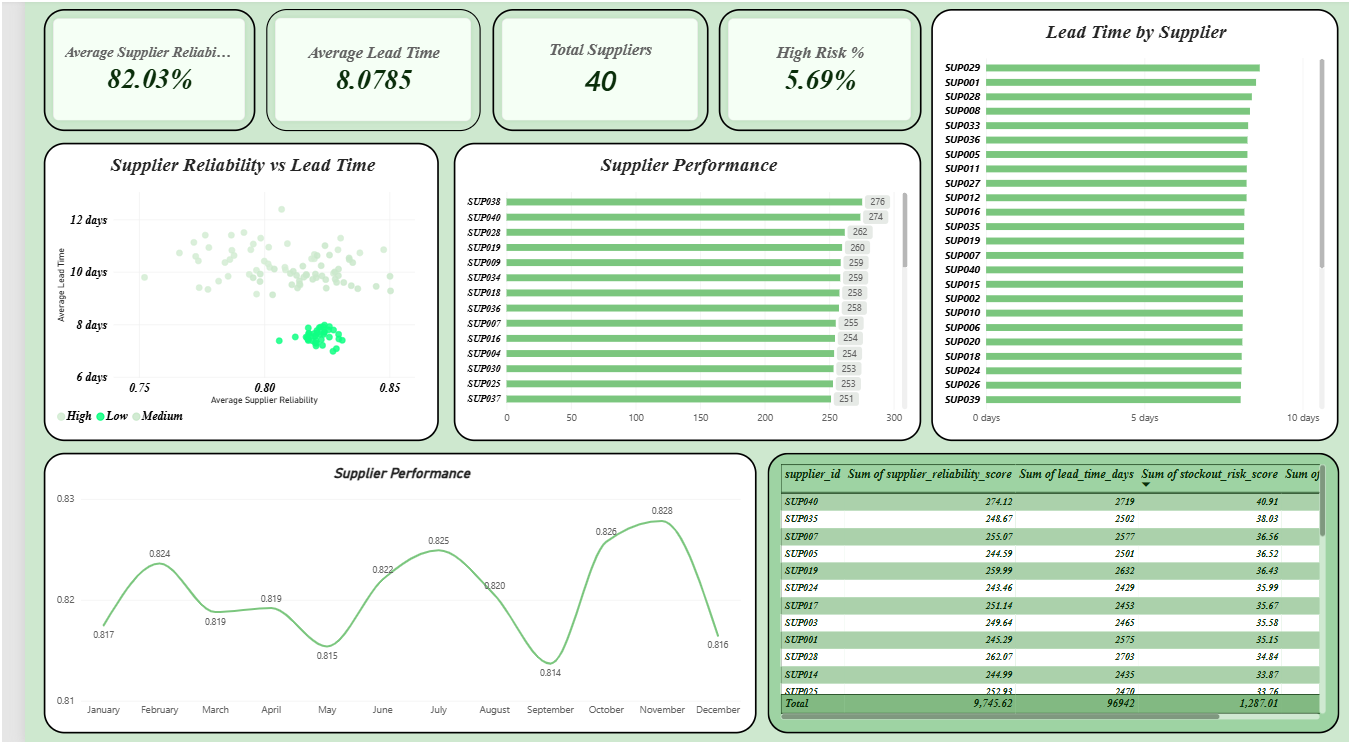

Layout of this report page (visuals, bound fields, positions):
{"tool":"powerbi","page":{"name":"🚚 Suppliers","canvas":[1920,1080],"ordinal":3},"visuals":[{"type":"cardVisual","fields":{"Data":["inventory_demand_stockout_risk_dataset.Average Supplier Reliability"]},"box":[27.7,14.9,306.4,176.6],"z":0},{"type":"cardVisual","fields":{"Data":["inventory_demand_stockout_risk_dataset.Average Lead Time"]},"box":[348.9,14.9,310.6,176.6],"z":1000},{"type":"cardVisual","fields":{"Data":["inventory_demand_stockout_risk_dataset.Total Suppliers"]},"box":[676.6,14.9,312.8,176.6],"z":2000},{"type":"cardVisual","fields":{"Data":["inventory_demand_stockout_risk_dataset.High Risk %"]},"box":[1004.3,14.9,293.6,176.6],"z":3000},{"type":"scatterChart","title":"Supplier Reliability vs Lead Time","fields":{"X":["inventory_demand_stockout_risk_dataset.Average Supplier Reliability"],"Series":["inventory_demand_stockout_risk_dataset.stockout_risk"],"Category":["inventory_demand_stockout_risk_dataset.supplier_id"],"Y":["inventory_demand_stockout_risk_dataset.Average Lead Time"]},"box":[27.7,208.5,572.3,431.9],"z":4000},{"type":"barChart","title":"Supplier Performance","fields":{"Category":["inventory_demand_stockout_risk_dataset.supplier_id"],"Y":["Sum(inventory_demand_stockout_risk_dataset.supplier_reliability_score)"]},"box":[621.3,208.5,676.6,431.9],"z":5000},{"type":"clusteredBarChart","title":"Lead Time by Supplier","fields":{"Category":["inventory_demand_stockout_risk_dataset.supplier_id"],"Y":["inventory_demand_stockout_risk_dataset.Average Lead Time"]},"box":[1312.8,14.9,589.4,625.5],"z":6000},{"type":"tableEx","fields":{"Values":["inventory_demand_stockout_risk_dataset.supplier_id","Sum(inventory_demand_stockout_risk_dataset.supplier_reliability_score)","Sum(inventory_demand_stockout_risk_dataset.lead_time_days)","Sum(inventory_demand_stockout_risk_dataset.stockout_risk_score)","Sum(inventory_demand_stockout_risk_dataset.potential_revenue_loss)"]},"box":[1074.5,657.4,827.7,406.4],"z":7000},{"type":"lineChart","title":"Supplier Performance","fields":{"Category":["inventory_demand_stockout_risk_dataset.date.Variation.Date Hierarchy.Month"],"Y":["inventory_demand_stockout_risk_dataset.Average Supplier Reliability"]},"box":[27.7,657.4,1031.9,406.4],"z":8000}]}

Visuals, with their boxes in screenshot pixels (x1, y1, x2, y2), scaled from the page's 1920x1080 canvas onto the 1351x744 screenshot:
cardVisual - inventory_demand_stockout_risk_dataset.Average Supplier Reliability: [19,10,235,132]
cardVisual - inventory_demand_stockout_risk_dataset.Average Lead Time: [246,10,464,132]
cardVisual - inventory_demand_stockout_risk_dataset.Total Suppliers: [476,10,696,132]
cardVisual - inventory_demand_stockout_risk_dataset.High Risk %: [707,10,913,132]
"Supplier Reliability vs Lead Time" scatterChart: [19,144,422,441]
"Supplier Performance" barChart: [437,144,913,441]
"Lead Time by Supplier" clusteredBarChart: [924,10,1338,441]
tableEx - inventory_demand_stockout_risk_dataset.supplier_id x Sum(inventory_demand_stockout_risk_dataset.supplier_reliability_score): [756,453,1338,733]
"Supplier Performance" lineChart: [19,453,746,733]
